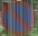No parking: (2, 1, 37, 33)
